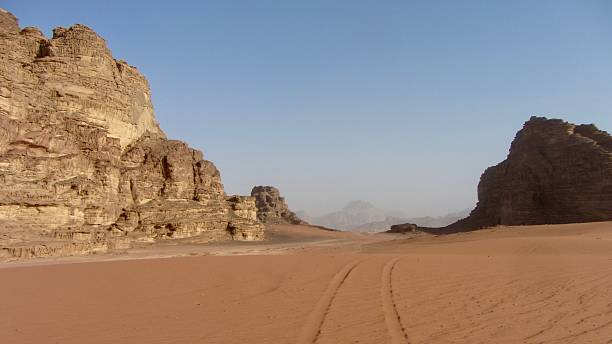vehicle_track: (297, 260, 360, 344), (381, 258, 408, 343)
